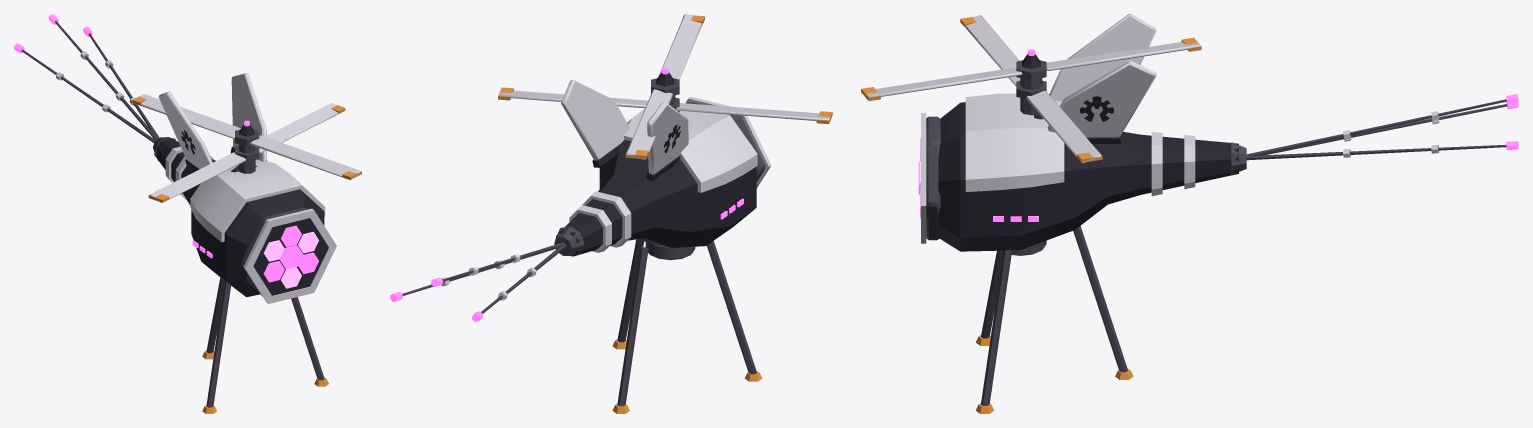
Rendered from drone_recon.glb.
3 views of the same model, side by side, from view 1: azimuth 30°, elevation 25°; view 2: azimuth 150°, elevation 25°; view 3: azimuth 270°, elevation 25° (orthographic). The views are drawn at different scales.
Visible parts, largest first — view 1: drone_recon_ceramic, drone_recon_shell, drone_recon_metal, rotor_upper, rotor_lower, drone_recon_glow, drone_recon_glow_dim; view 2: drone_recon_ceramic, drone_recon_shell, drone_recon_metal, rotor_upper, rotor_lower, drone_recon_glow; view 3: drone_recon_shell, drone_recon_ceramic, drone_recon_metal, rotor_lower, rotor_upper, drone_recon_glow.
Part boxes in pixels (x1=…): drone_recon_ceramic: x1=56, y1=51, x2=336, y2=303; drone_recon_shell: x1=154, y1=124, x2=328, y2=297; drone_recon_metal: x1=21, y1=21, x2=324, y2=407; rotor_upper: x1=132, y1=94, x2=361, y2=180; rotor_lower: x1=148, y1=103, x2=345, y2=202; drone_recon_glow: x1=14, y1=14, x2=318, y2=282; drone_recon_glow_dim: x1=263, y1=232, x2=318, y2=288; drone_recon_ceramic: x1=441, y1=80, x2=771, y2=300; drone_recon_shell: x1=556, y1=72, x2=756, y2=256; drone_recon_metal: x1=402, y1=95, x2=764, y2=406; rotor_upper: x1=625, y1=14, x2=704, y2=159; rotor_lower: x1=498, y1=87, x2=832, y2=124; drone_recon_glow: x1=390, y1=68, x2=743, y2=321; drone_recon_shell: x1=938, y1=54, x2=1238, y2=251; drone_recon_ceramic: x1=921, y1=14, x2=1439, y2=243; drone_recon_metal: x1=926, y1=78, x2=1507, y2=405; rotor_lower: x1=960, y1=15, x2=1102, y2=163; rotor_upper: x1=861, y1=37, x2=1201, y2=100; drone_recon_glow: x1=918, y1=49, x2=1518, y2=221.
Bounding box in the file's own units: 0.3115 × 0.3419 × 0.6016.
